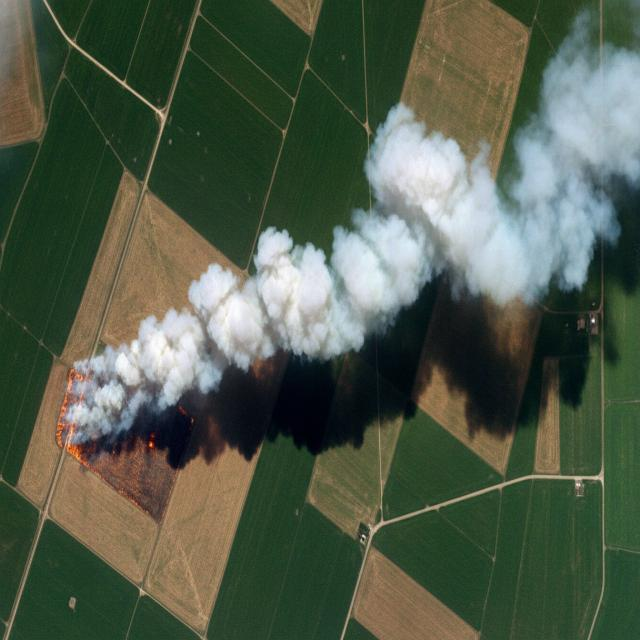wildfire: (55, 302, 219, 525)
